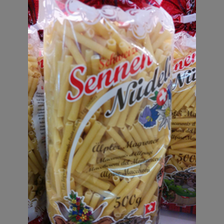pasta: (43, 1, 176, 224)
